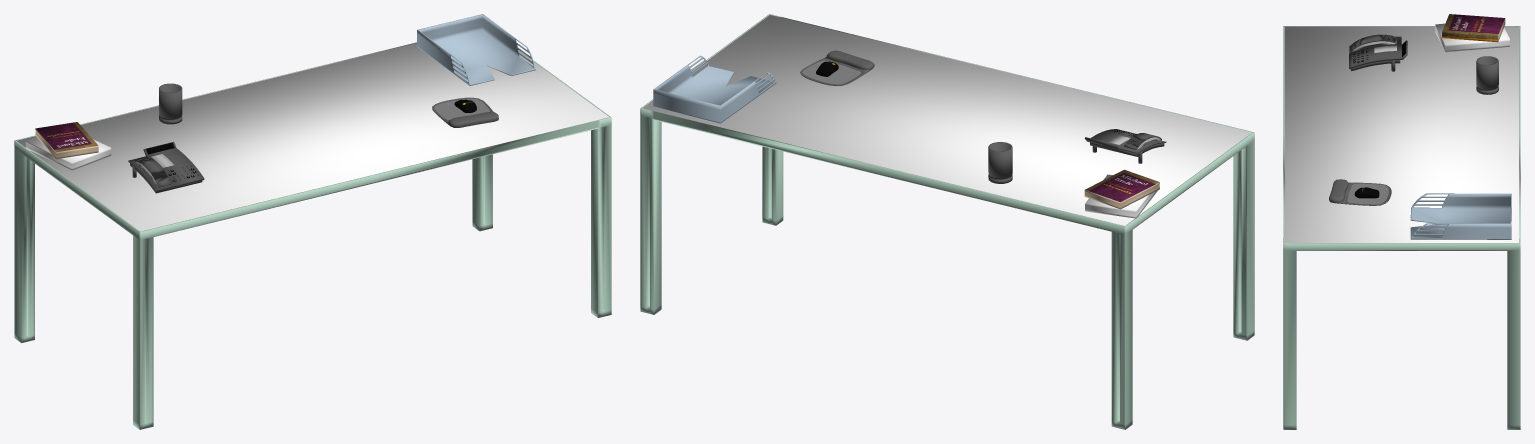
Rendered from kit_desk.glb.
3 views of the same model, side by side, from view 1: azimuth 30°, elevation 25°; view 2: azimuth 150°, elevation 25°; view 3: azimuth 270°, elevation 25° (orthographic). The views are drawn at different scales.
Parts seen in each view (by area): view 1: mesa_oficina_Cube.144, soporte_mesa_Cube.155, bandeja_Cube.005, phonejandro_Cylinder.002, book1_Cube.120, Alfombrilla_mouse_Cube.147, book2_Cube.119, penbox_Cylinder.001; view 2: mesa_oficina_Cube.144, soporte_mesa_Cube.155, bandeja_Cube.005, book1_Cube.120, Alfombrilla_mouse_Cube.147, phonejandro_Cylinder.002, penbox_Cylinder.001, book2_Cube.119; view 3: mesa_oficina_Cube.144, soporte_mesa_Cube.155, bandeja_Cube.005, phonejandro_Cylinder.002, book1_Cube.120, Alfombrilla_mouse_Cube.147, book2_Cube.119, penbox_Cylinder.001, mouse_Cube.148.
Part boxes in pixels (<box>): mesa_oficina_Cube.144: <box>16,43,609,231</box>; soporte_mesa_Cube.155: <box>14,42,611,429</box>; bandeja_Cube.005: <box>417,14,535,85</box>; phonejandro_Cylinder.002: <box>128,141,204,193</box>; book1_Cube.120: <box>35,122,98,158</box>; Alfombrilla_mouse_Cube.147: <box>432,97,498,127</box>; book2_Cube.119: <box>25,136,111,170</box>; penbox_Cylinder.001: <box>159,83,182,124</box>; mesa_oficina_Cube.144: <box>643,15,1252,225</box>; soporte_mesa_Cube.155: <box>640,14,1254,429</box>; bandeja_Cube.005: <box>653,55,776,123</box>; book1_Cube.120: <box>1084,169,1159,209</box>; Alfombrilla_mouse_Cube.147: <box>800,50,874,85</box>; phonejandro_Cylinder.002: <box>1085,129,1166,163</box>; penbox_Cylinder.001: <box>988,142,1012,183</box>; book2_Cube.119: <box>1085,174,1158,218</box>; mesa_oficina_Cube.144: <box>1284,26,1519,242</box>; soporte_mesa_Cube.155: <box>1283,26,1520,429</box>; bandeja_Cube.005: <box>1410,193,1511,239</box>; phonejandro_Cylinder.002: <box>1349,34,1407,71</box>; book1_Cube.120: <box>1442,14,1505,42</box>; Alfombrilla_mouse_Cube.147: <box>1329,179,1391,205</box>; book2_Cube.119: <box>1435,23,1509,52</box>; penbox_Cylinder.001: <box>1476,56,1498,94</box>; mouse_Cube.148: <box>1354,187,1379,198</box>.
Bounding box in the file's own units: 1.92 × 0.8866 × 0.8837.
17 materials, 4 textured.
